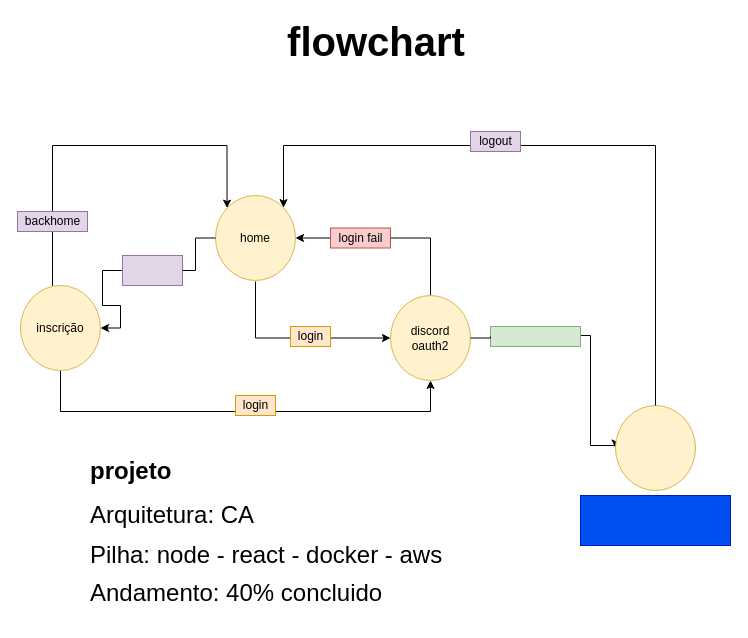
This 748x638 diagram has some shape labels left out. Here are the shapes that lost their labels. From the top down, the centre of each, then its label:
(x=152, y=270): incriçao
(x=535, y=336): login success
(x=655, y=447): dashboard
(x=655, y=520): sugerir acossiar email de inscrição para fazer join no DiscordID
